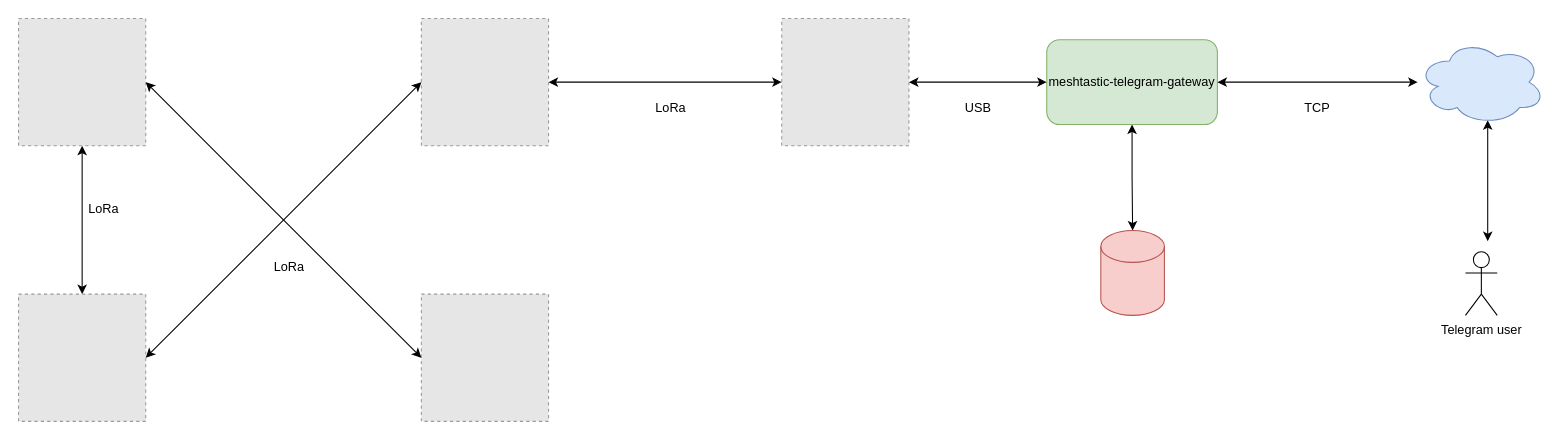
Some shapes in this 1563 by 440 pixel diagram are drawn without their labels. Grey dashed boxes stand in for pictures. Each missing label, with the box of its shape:
Internet: (1417, 39, 1545, 125)
SQLiteDB: (1100, 229, 1164, 315)
